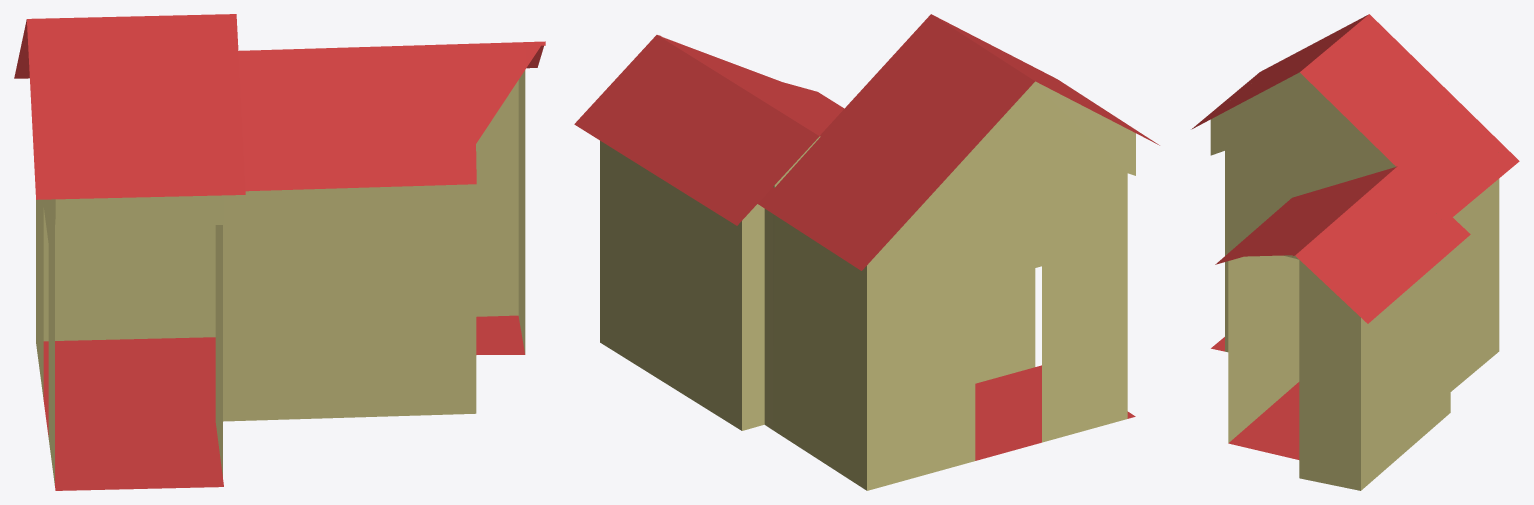
3 renders of one model, left to right at view 1: azimuth 30°, elevation 25°; view 2: azimuth 150°, elevation 25°; view 3: azimuth 270°, elevation 25°, orthographic. The views are drawn at different scales.
Bounding box in the file's own units: 24.13 × 16.28 × 16.48.
